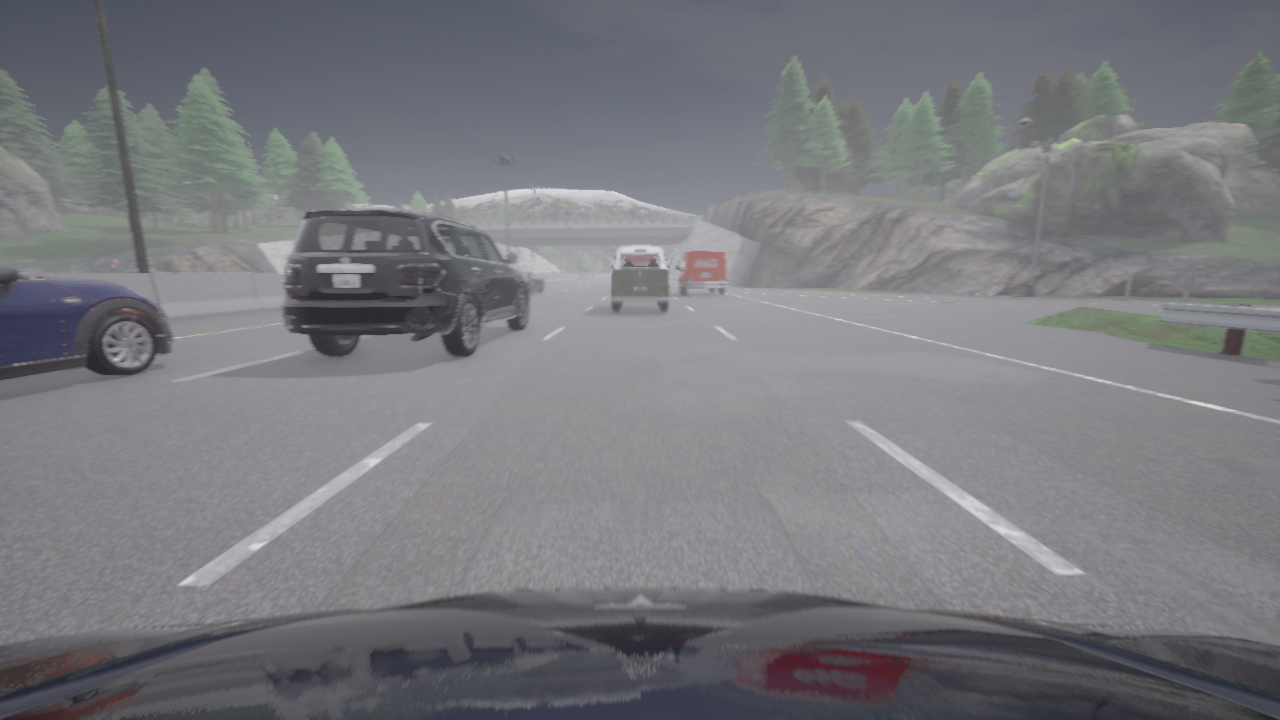cyclist: (0, 588, 1279, 719), (282, 209, 528, 356), (611, 246, 668, 312), (676, 250, 728, 294), (521, 272, 543, 294)
